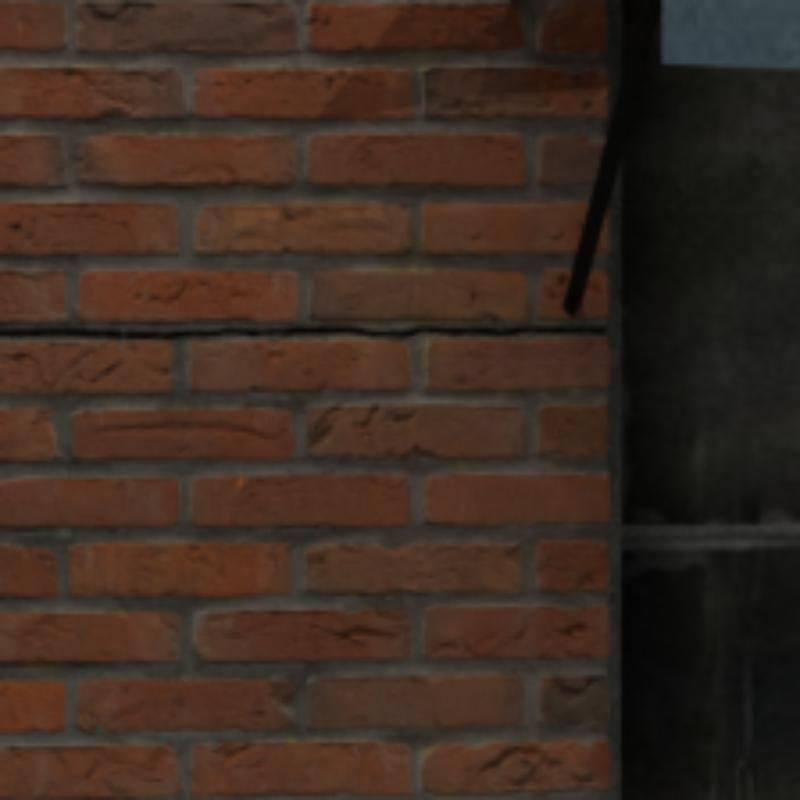crack: (0, 325, 352, 336), (411, 325, 600, 330), (356, 329, 395, 336)
